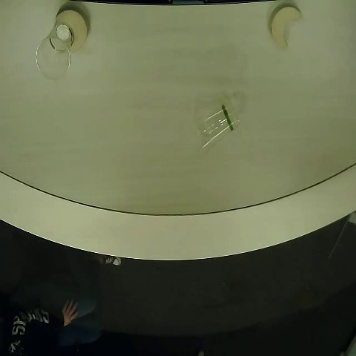empty_cup: (31, 23, 78, 83), (193, 102, 245, 153)
puck: (54, 8, 91, 55), (267, 4, 304, 51)
